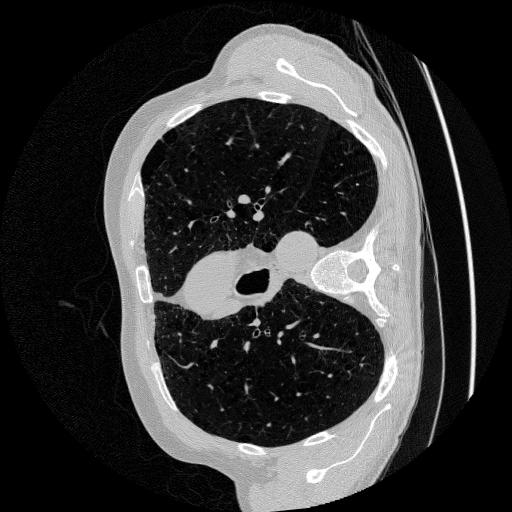nodule: (264, 420, 275, 431)
